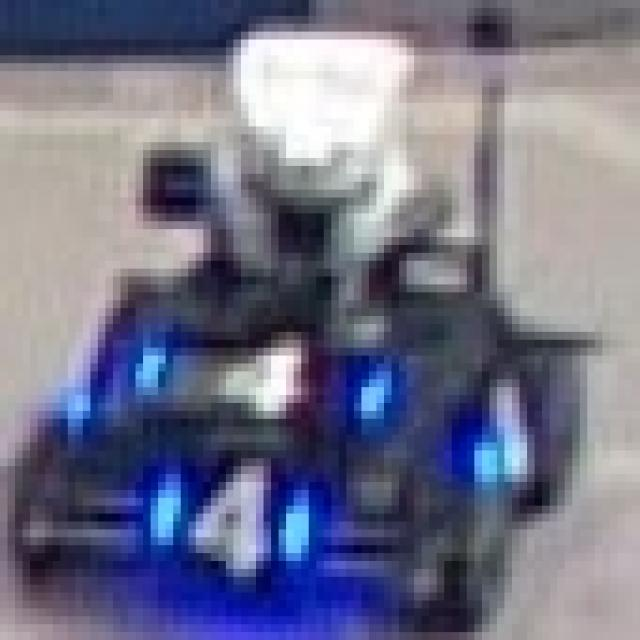B4: (120, 324, 384, 427), (143, 450, 324, 569)
